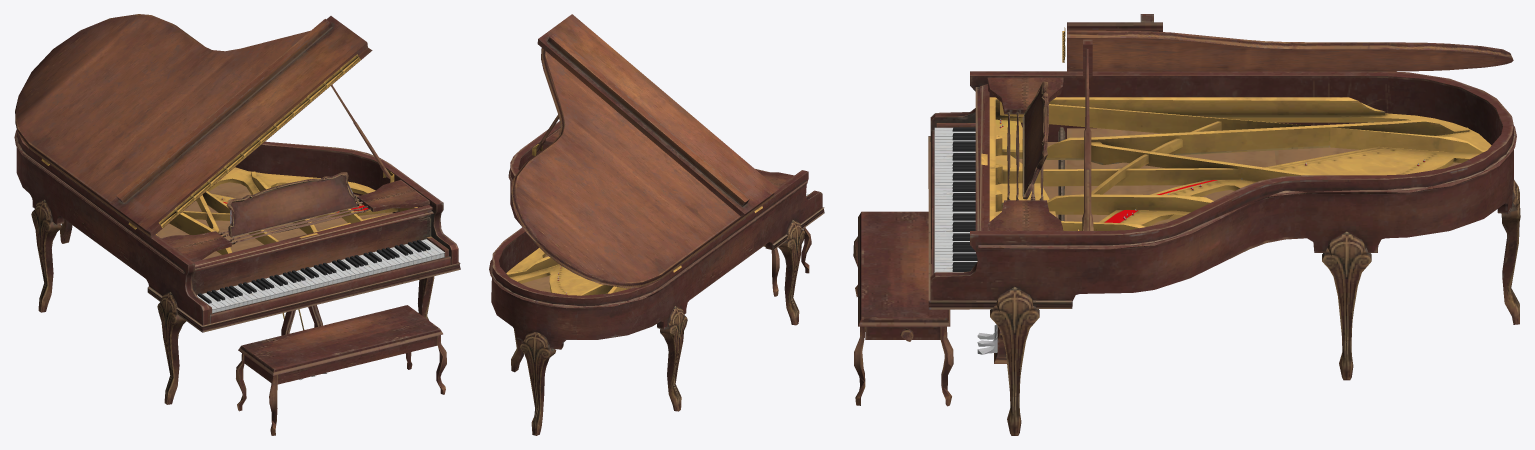
3 views of the same model, side by side, from view 1: azimuth 30°, elevation 25°; view 2: azimuth 150°, elevation 25°; view 3: azimuth 270°, elevation 25° (orthographic). The views are drawn at different scales.
Parts seen in each view (by area): view 1: ST_Furn_GrandPiano_01_A; view 2: ST_Furn_GrandPiano_01_A; view 3: ST_Furn_GrandPiano_01_A.
Boxes of the visible parts, x1,y1,x2,y2 form: ST_Furn_GrandPiano_01_A: (14,14,460,435); ST_Furn_GrandPiano_01_A: (489,14,824,435); ST_Furn_GrandPiano_01_A: (853,14,1520,435).
Bounding box in the file's own units: 4.51 × 4.78 × 7.45.
Materials: 2 (2 with a texture image).
